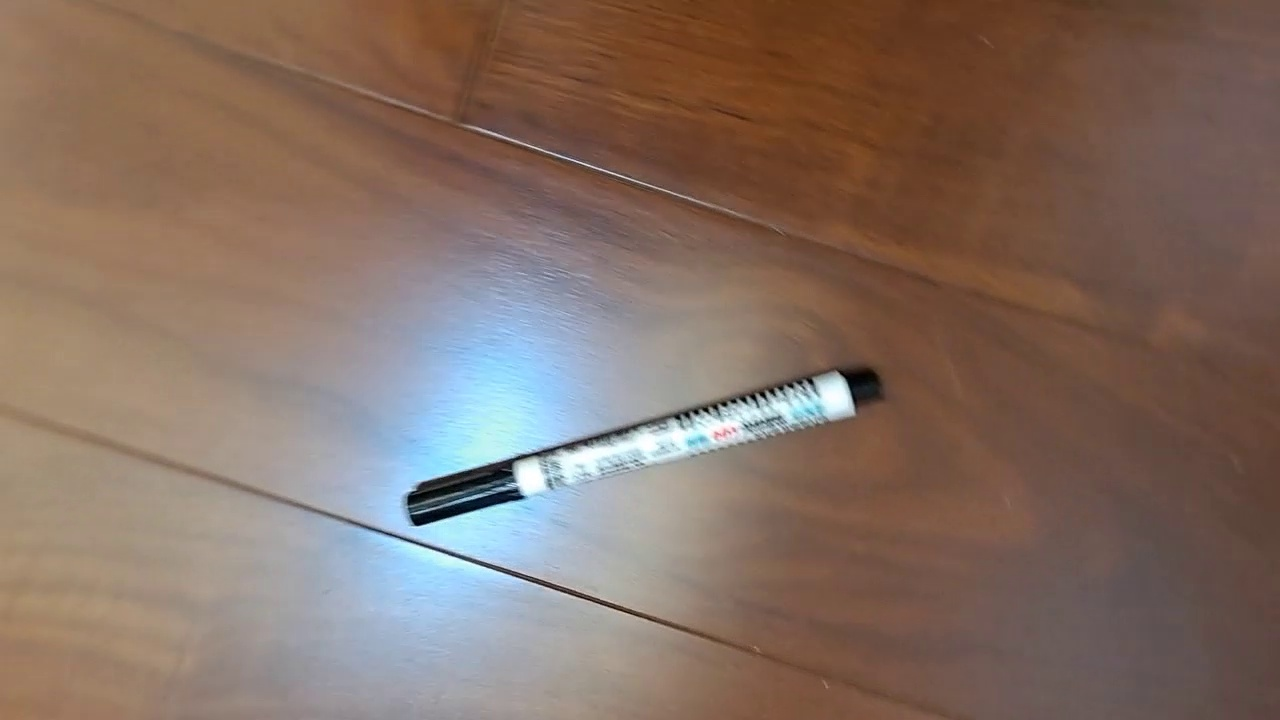pen: (403, 364, 885, 527)
